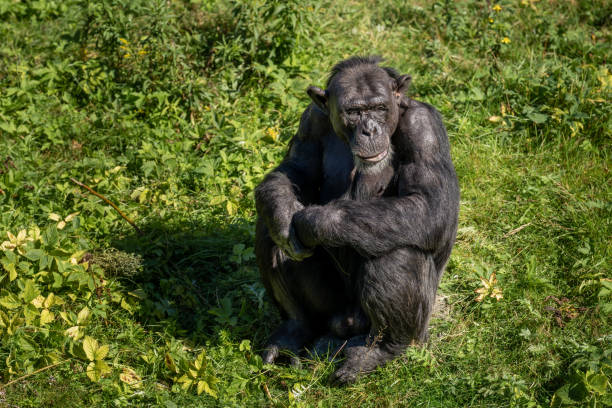chimpanzee: (300, 51, 421, 187)
